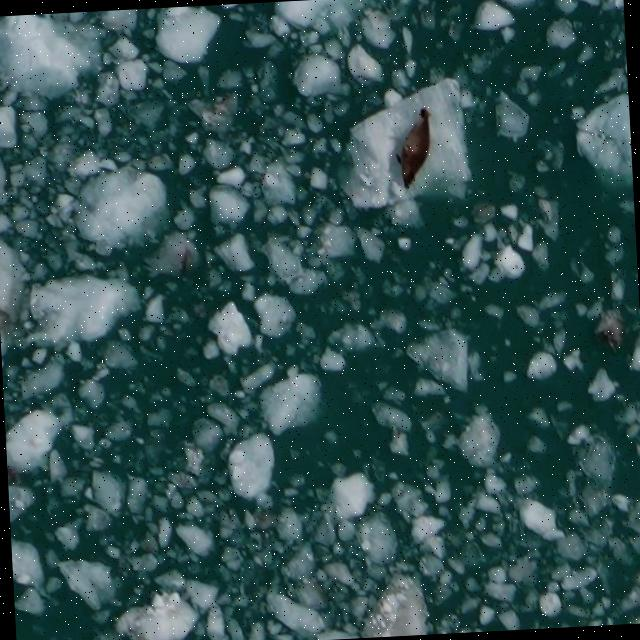seal: (398, 109, 435, 191)
